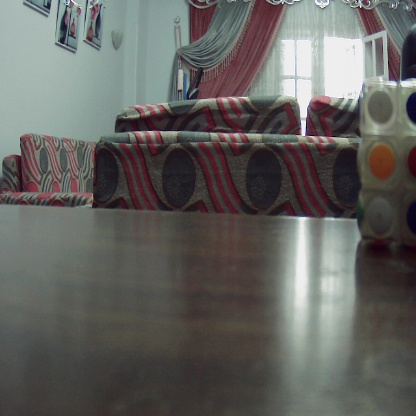Rubix Cube: (356, 80, 416, 249)
